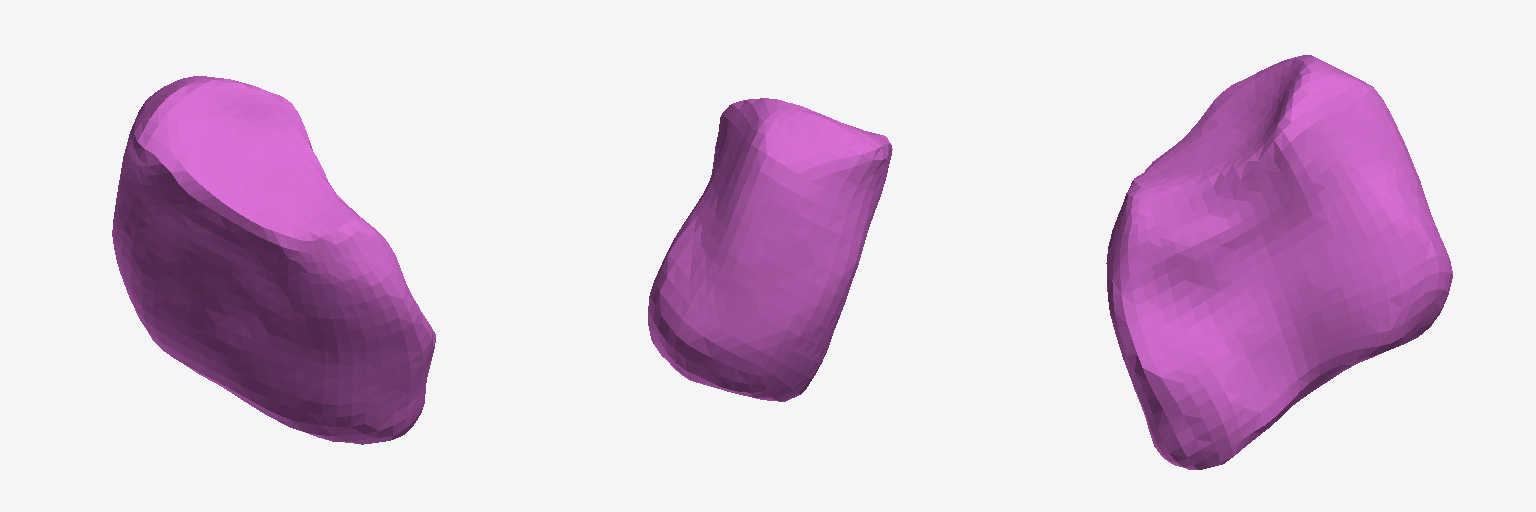
Rendered from Cuniform_Medial.obj.
3 views of the same model, side by side, from view 1: azimuth 30°, elevation 25°; view 2: azimuth 150°, elevation 25°; view 3: azimuth 270°, elevation 25° (orthographic).
Visible parts, largest first — view 1: Object_0Cuniform_Medial; view 2: Object_0Cuniform_Medial; view 3: Object_0Cuniform_Medial.
Part boxes in pixels (bbox=[...]): Object_0Cuniform_Medial: bbox=[112, 76, 435, 444]; Object_0Cuniform_Medial: bbox=[648, 98, 892, 401]; Object_0Cuniform_Medial: bbox=[1106, 55, 1452, 469].
Size of the model in its own units: 28.39 by 40.28 by 36.83.